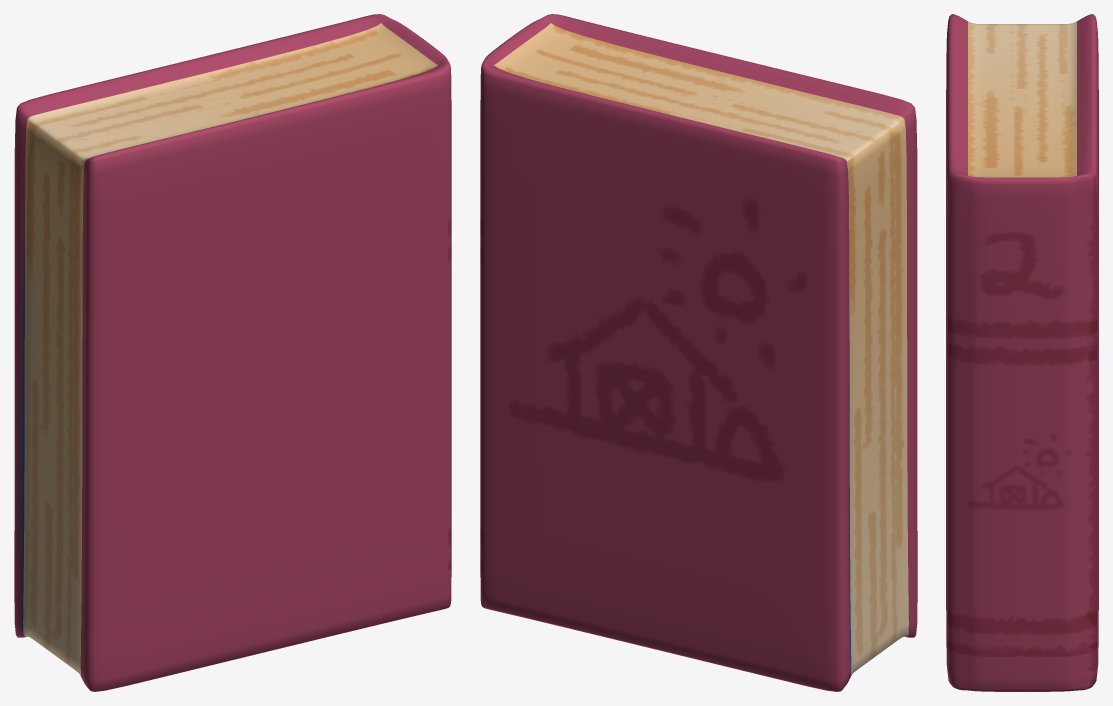
Rendered from level02.fbx.
3 views of the same model, side by side, from view 1: azimuth 30°, elevation 25°; view 2: azimuth 150°, elevation 25°; view 3: azimuth 270°, elevation 25° (orthographic). The views are drawn at different scales.
Visible parts, largest first — view 1: Cube; view 2: Cube; view 3: Cube.
Part boxes in pixels (x1,y1,x2,y2): Cube: (14,14,451,691); Cube: (480,14,917,691); Cube: (946,14,1098,691).
Bounding box in the file's own units: 7.54 × 20.27 × 28.04.
